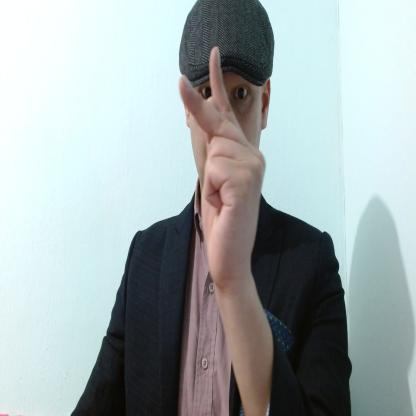P: (176, 44, 268, 284)
